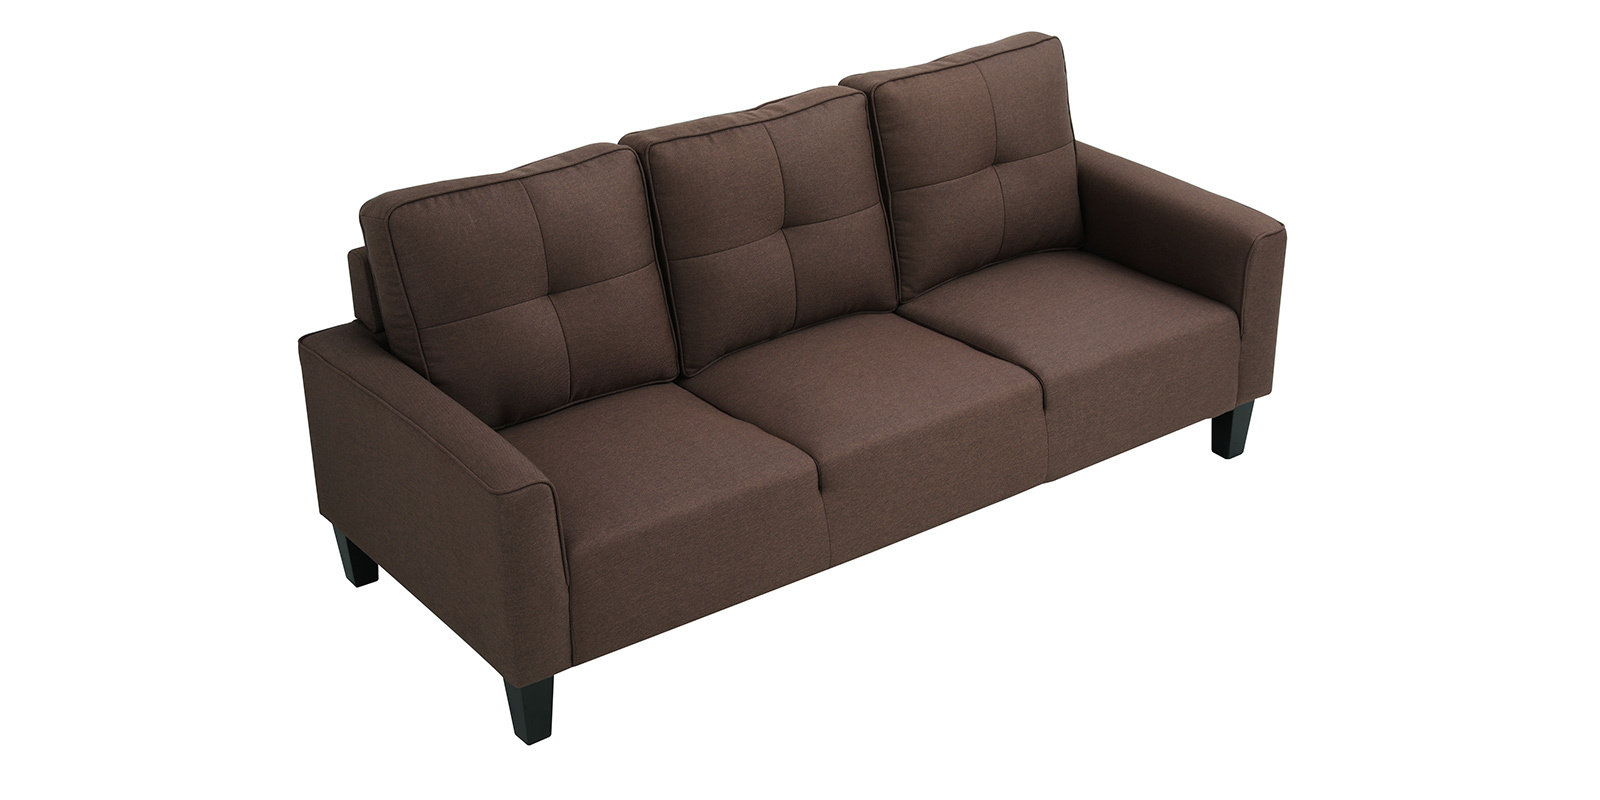Alice Three Seater Sofa in Brown Colour by Zofa: (288, 24, 1295, 754)
